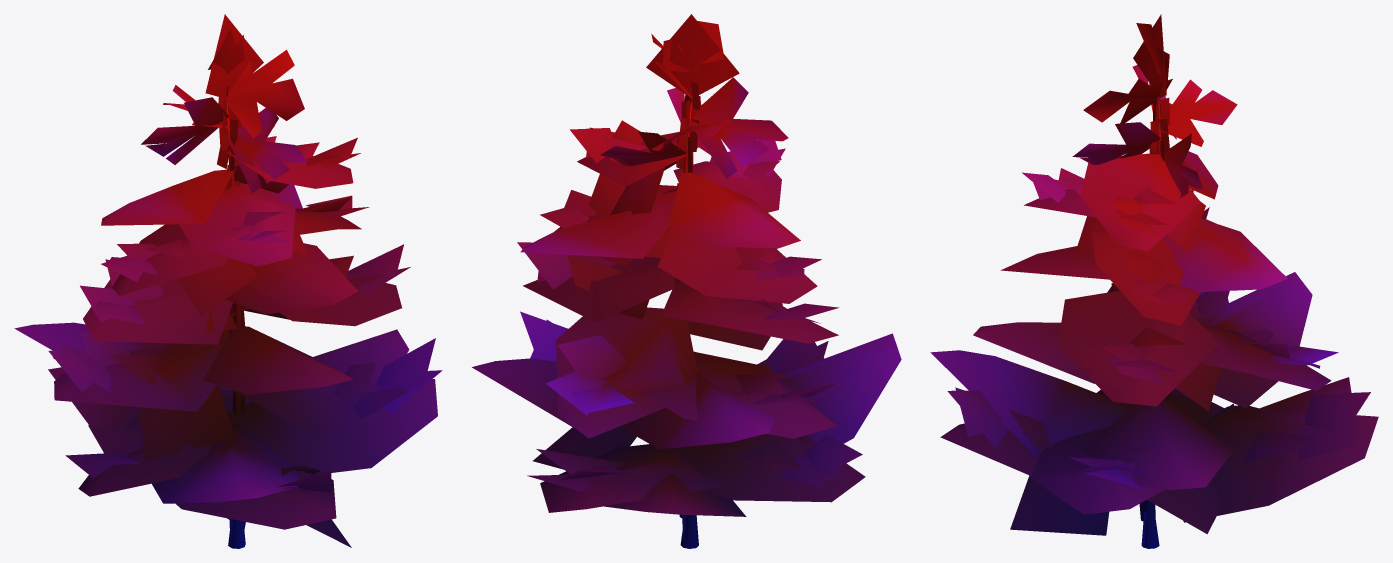
Rendered from Fir_01_Plant_advanced.FBX.
3 renders of one model, left to right at view 1: azimuth 30°, elevation 25°; view 2: azimuth 150°, elevation 25°; view 3: azimuth 270°, elevation 25°, orthographic.
Visible parts, largest first — view 1: Fir_01_leaves_LOD0, Fir_01_bark_LOD0; view 2: Fir_01_leaves_LOD0, Fir_01_bark_LOD0; view 3: Fir_01_leaves_LOD0, Fir_01_bark_LOD0.
Part boxes in pixels (left/top/right/bottom): Fir_01_leaves_LOD0: left=14, top=14, right=442, bottom=547; Fir_01_bark_LOD0: left=226, top=97, right=245, bottom=548; Fir_01_leaves_LOD0: left=472, top=14, right=901, bottom=546; Fir_01_bark_LOD0: left=679, top=99, right=698, bottom=548; Fir_01_leaves_LOD0: left=930, top=14, right=1378, bottom=546; Fir_01_bark_LOD0: left=1142, top=101, right=1160, bottom=548.
Size of what is drawn, in the model's own units: 3841 by 5506 by 4226.
